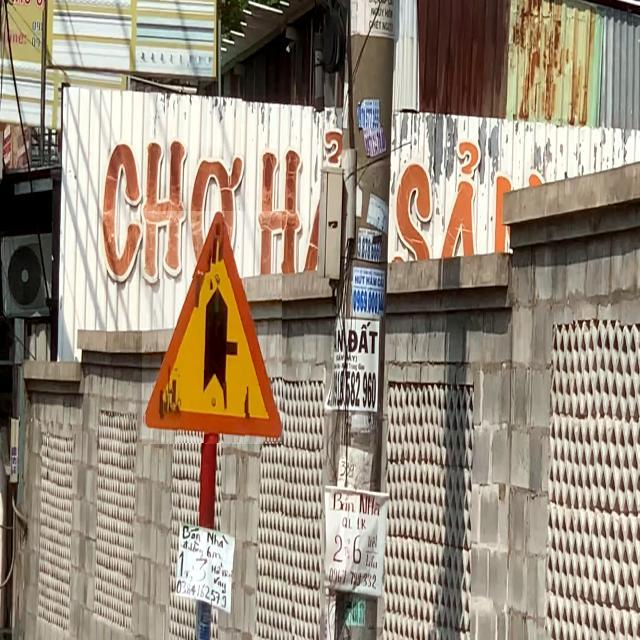W-207b: (142, 211, 282, 444)
